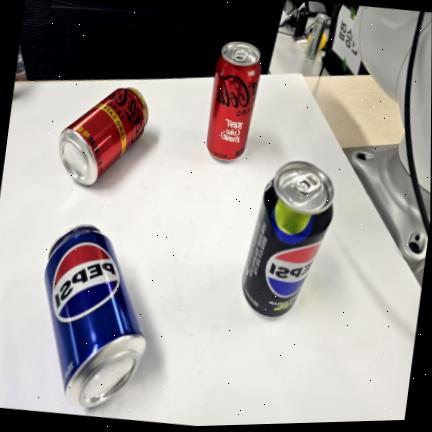can_coke_decaf: (58, 87, 148, 184)
can_coke_zero: (206, 41, 261, 160)
can_pepsi: (44, 224, 145, 407)
can_pepsi_zero: (242, 161, 333, 317)
